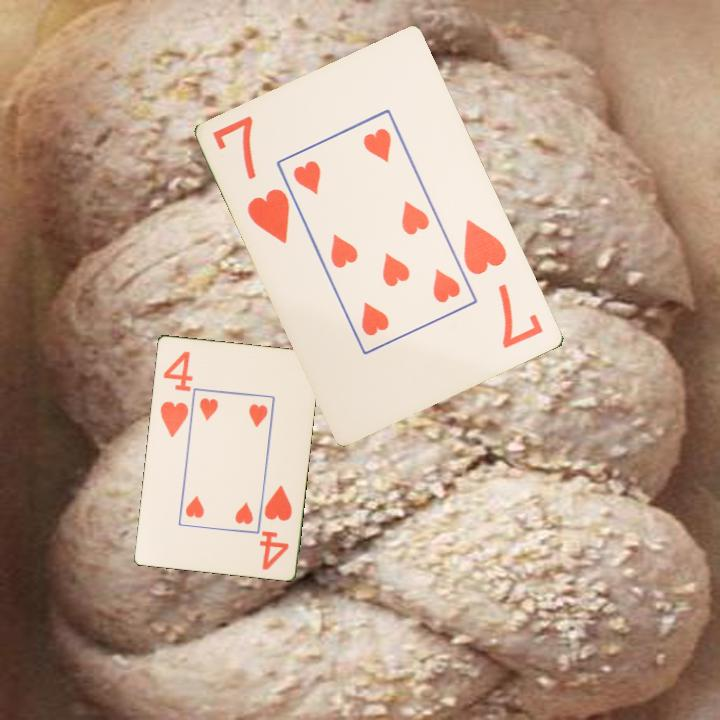4h: (156, 347, 195, 440), (257, 481, 295, 572)
7h: (460, 215, 547, 352), (209, 112, 294, 247)
